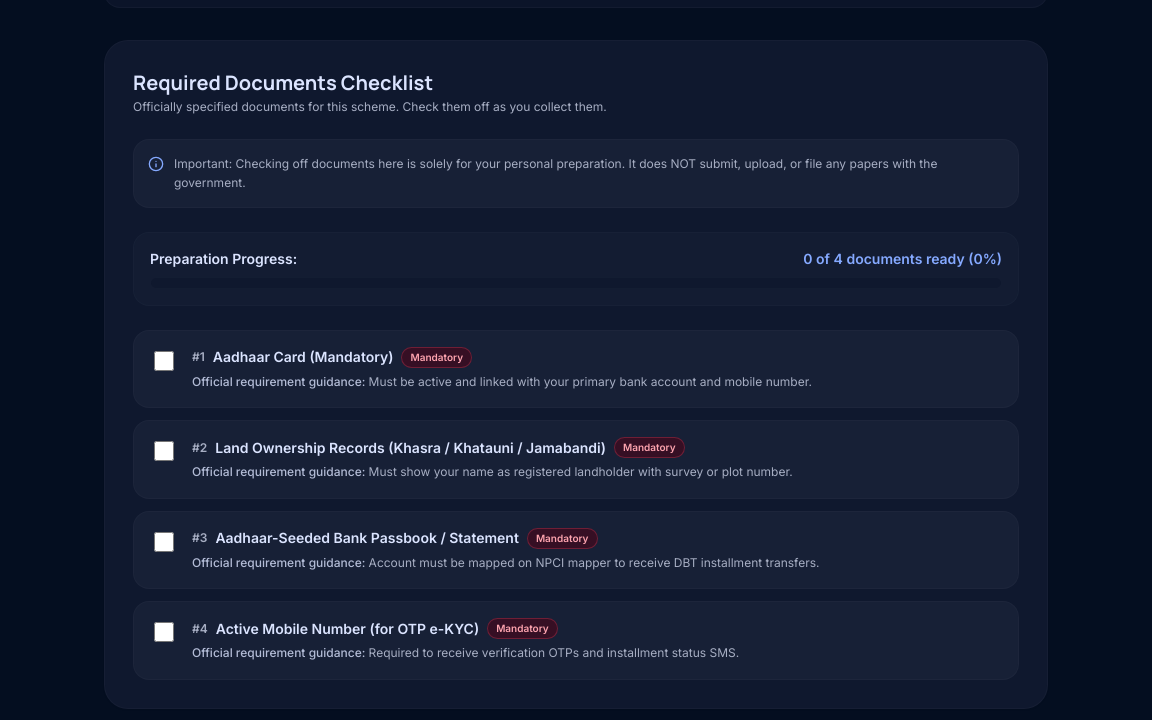
Scenario: Phase 1 — Feature 4: Scheme Eligibility and Required-Document Checklist › Interactive Document Checklist › displays mandatory and conditional document badges and allows interactive tracking
(page scrolled)
Expected: the heading "Required Documents Checklist" is shown, top-left (133, 68), bottom-right (433, 96)
Expected: the text "Important: Checking off documents here is solely for your personal preparation" is shown, top-left (174, 156), bottom-right (937, 190)
Click the checkbox in the row of "Aadhaar Card (Mandatory)" at (164, 360), box top-left (154, 350), bottom-right (174, 370)
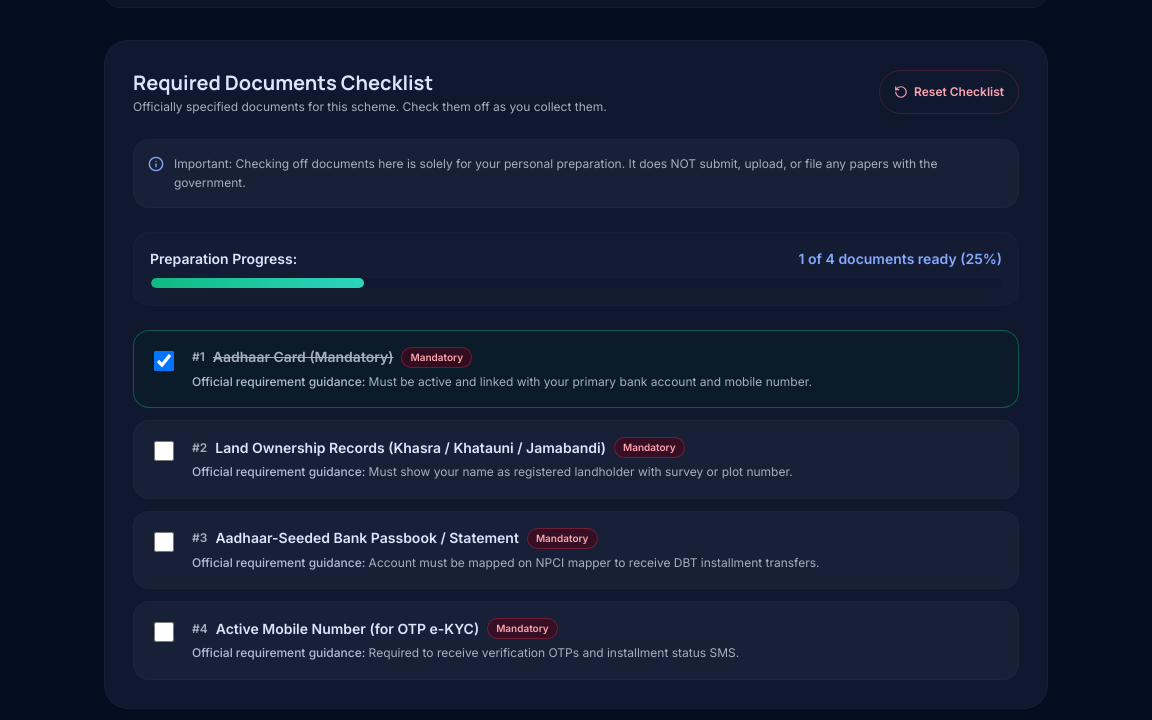
Now the checkbox in the row of "Aadhaar Card (Mandatory)" is checked, box top-left (154, 350), bottom-right (174, 370)
Now the text "1 of 4 documents ready (25%)" is shown, box top-left (799, 248), bottom-right (1002, 268)
// Reset checklist button
Click the button "Reset Checklist" at (949, 92), box top-left (879, 70), bottom-right (1019, 114)
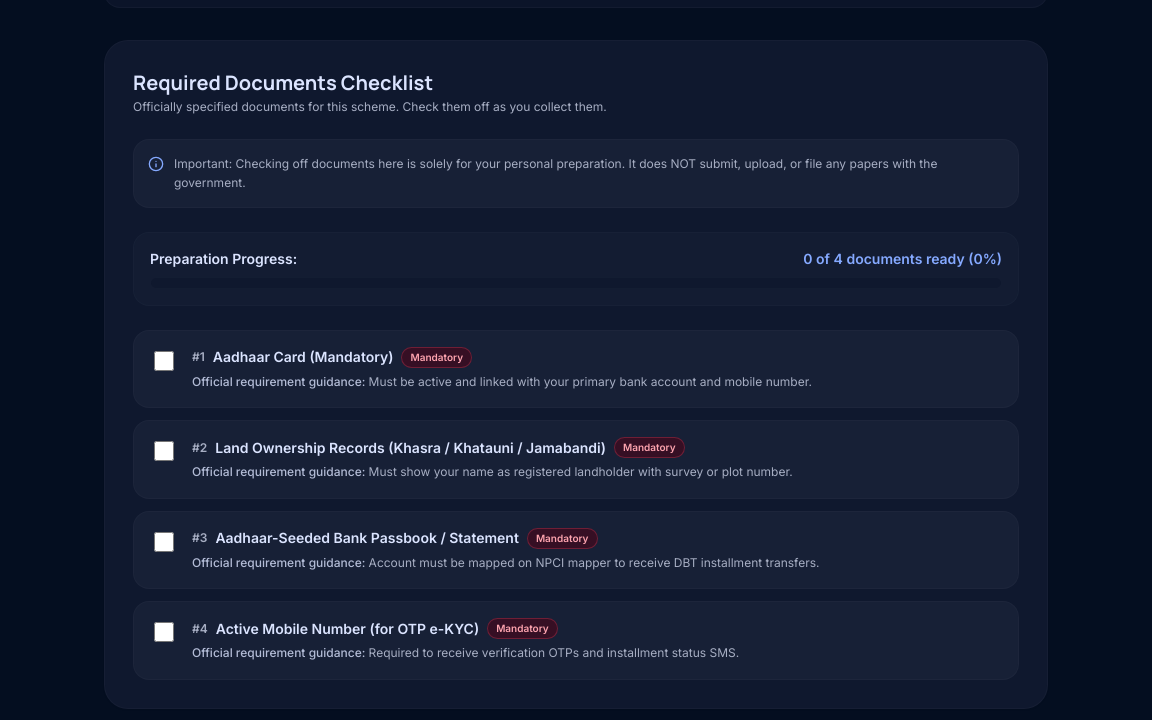
Now the checkbox in the row of "Aadhaar Card (Mandatory)" is not checked, box top-left (154, 350), bottom-right (174, 370)
Now the text "0 of 4 documents ready (0%)" is shown, box top-left (803, 248), bottom-right (1002, 268)
